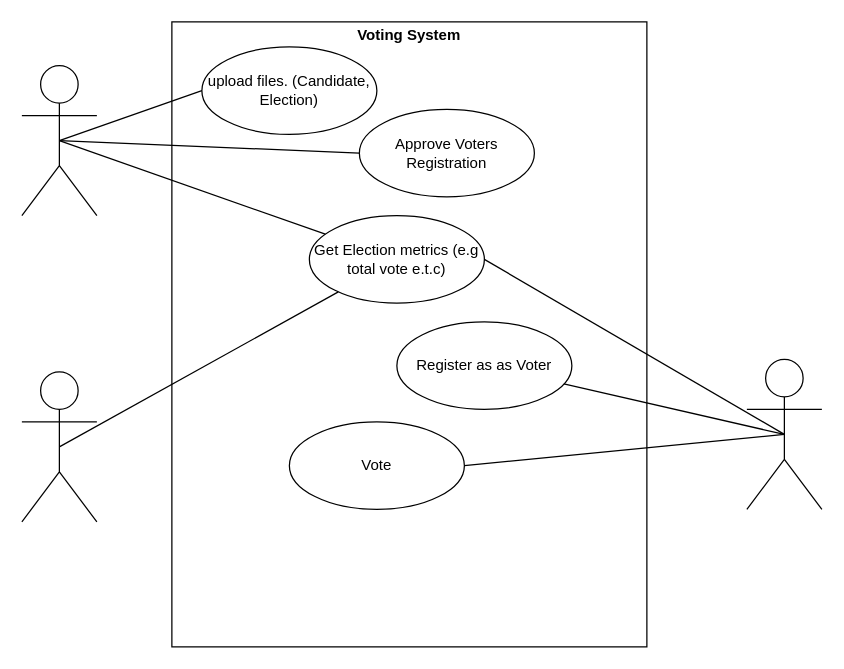
This 844x669 diagram has some shape labels left out. Each missing label, with the centre of its shape:
Admin: the point at 59,140
Candidate: the point at 59,446
Voter: the point at 784,433
